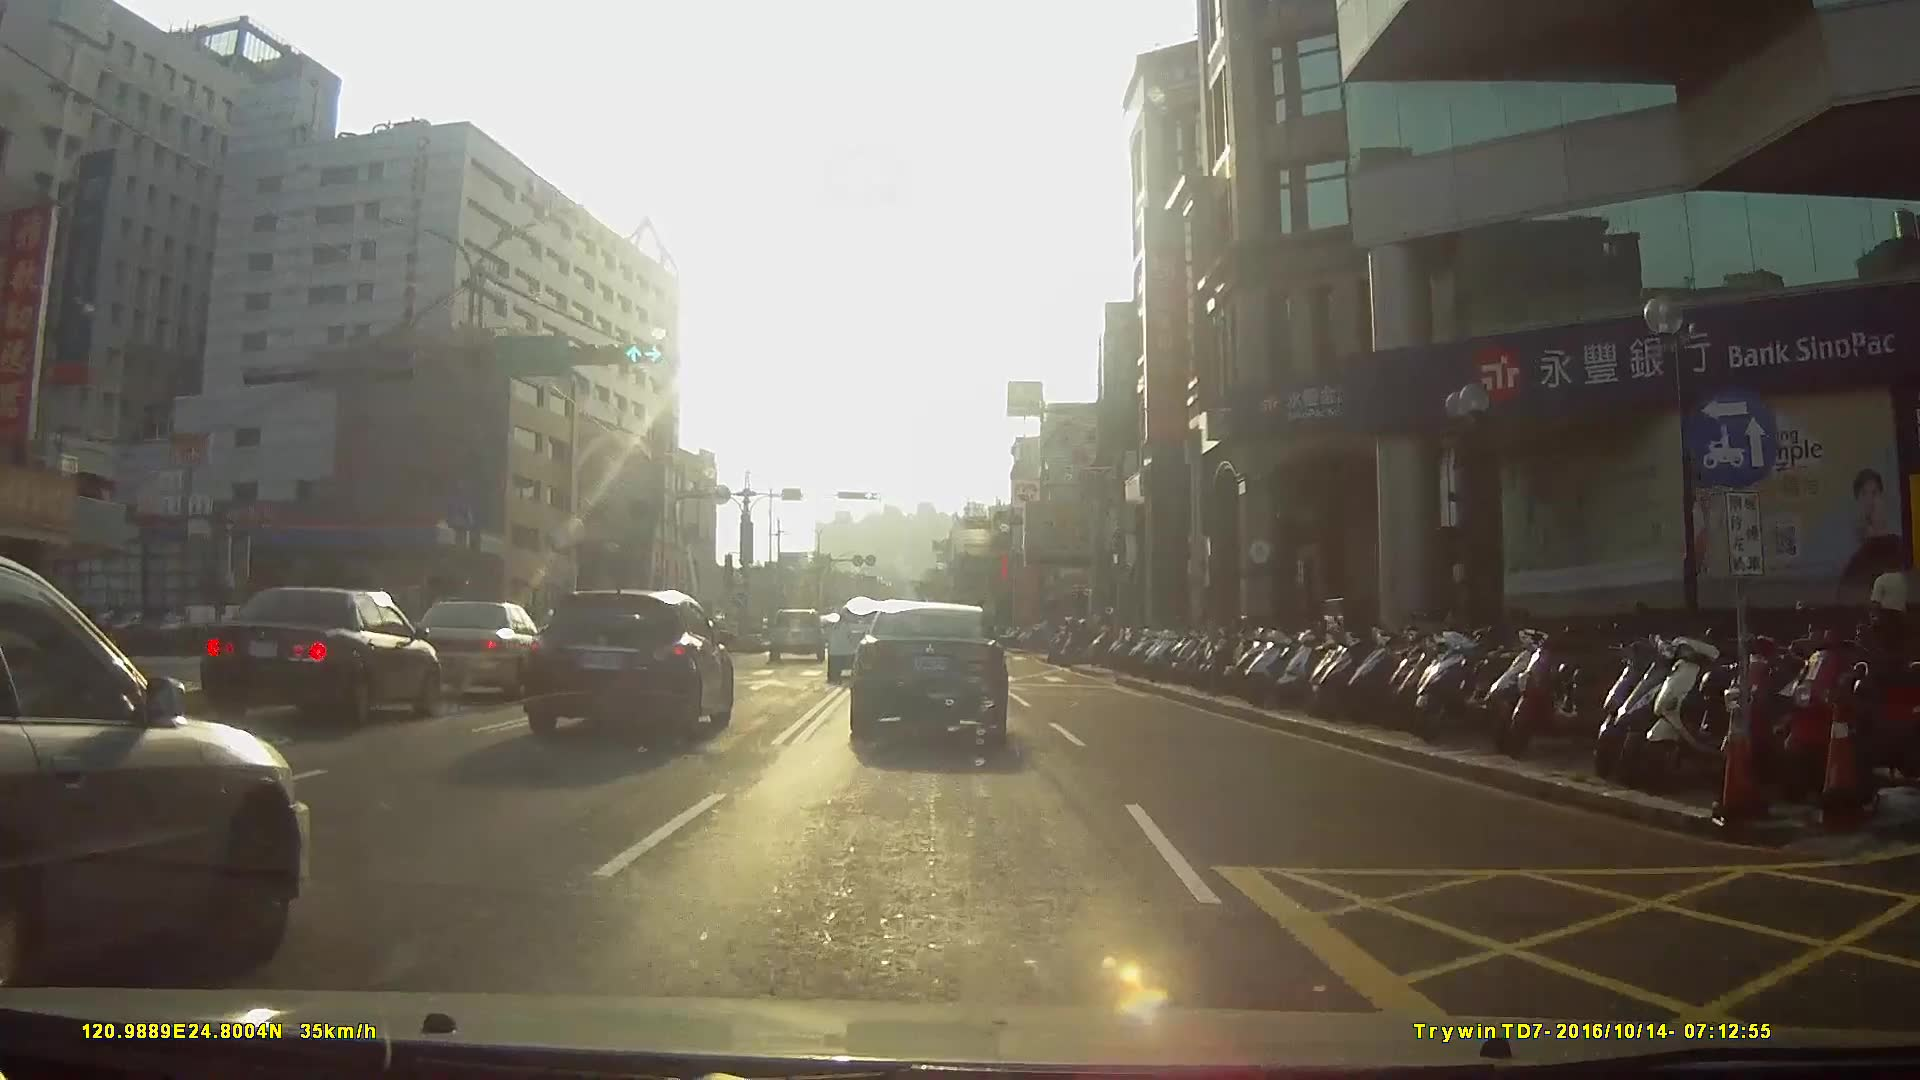pedestrian: (1865, 553, 1914, 676)
rider: (1057, 620, 1100, 668)
vehicle: (1, 553, 325, 1005), (181, 583, 450, 736), (514, 585, 749, 741), (845, 601, 1023, 740), (394, 597, 560, 700), (821, 598, 900, 682), (762, 607, 821, 662)
